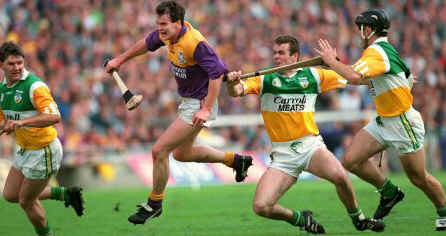hurley: (231, 52, 339, 84), (100, 57, 147, 111)
